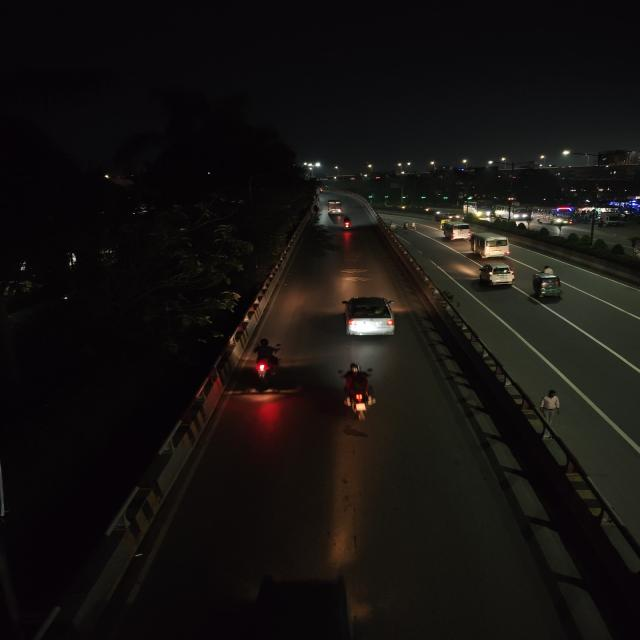bus: (469, 233, 512, 258), (535, 206, 574, 225), (440, 222, 473, 242), (464, 202, 494, 220), (508, 207, 531, 221)
car: (338, 294, 399, 340), (475, 259, 519, 289)
cng: (530, 273, 564, 300)
motorcycle: (336, 360, 381, 422), (246, 337, 287, 383), (340, 215, 352, 231)
pedestrian: (540, 388, 568, 431), (409, 220, 416, 232), (403, 222, 410, 231)
truck: (468, 234, 512, 258), (597, 212, 623, 228), (326, 198, 344, 214)
